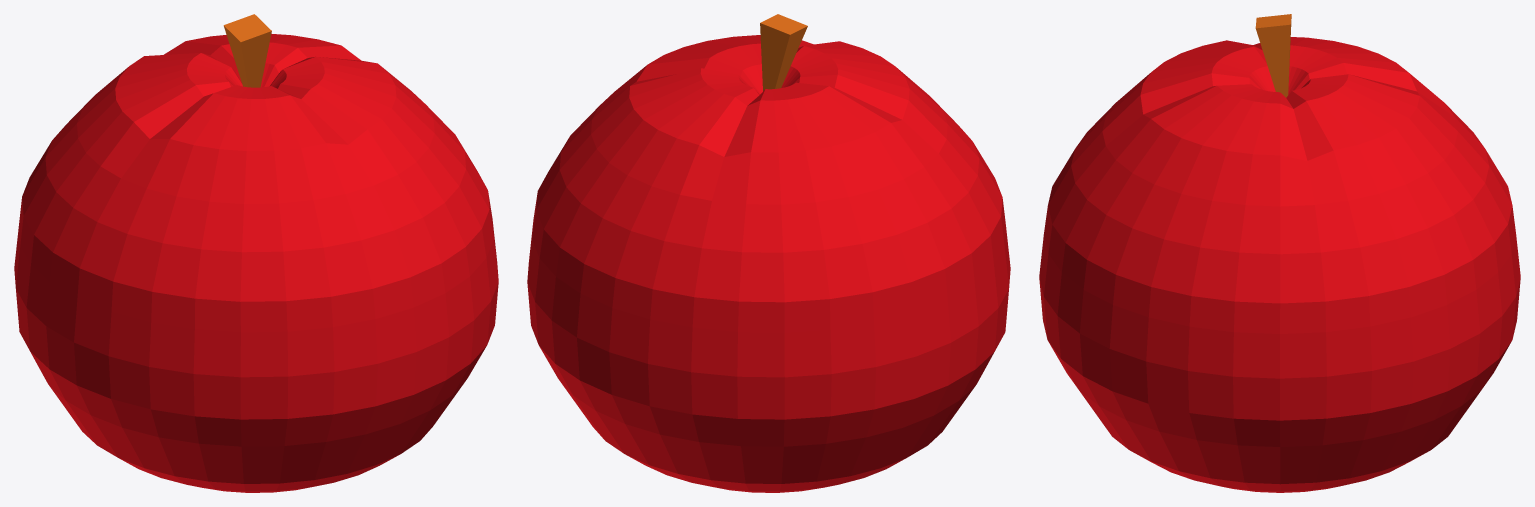
Rendered from maca.fbx.
The picture shows the model from 3 angles, left to right: view 1: azimuth 30°, elevation 25°; view 2: azimuth 150°, elevation 25°; view 3: azimuth 270°, elevation 25°; orthographic projection.
Parts seen in each view (by area): view 1: Sphere; view 2: Sphere; view 3: Sphere.
Part boxes in pixels (x1,y1,x2,y2): Sphere: (14,14,498,492); Sphere: (527,14,1010,492); Sphere: (1039,14,1520,492).
Bounding box in the file's own units: 216 × 218 × 216.
